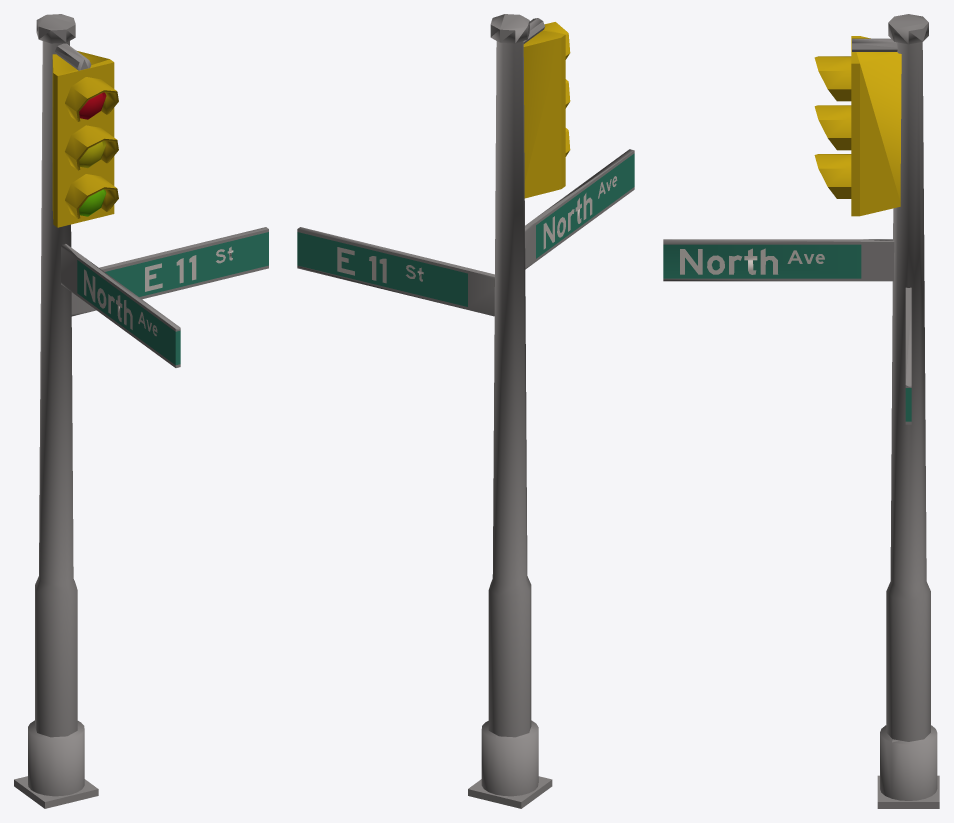
The model's file is traffic-light.glb.
The picture shows the model from 3 angles, left to right: view 1: azimuth 30°, elevation 25°; view 2: azimuth 150°, elevation 25°; view 3: azimuth 270°, elevation 25°; orthographic projection.
Parts seen in each view (by area): view 1: traffic-light; view 2: traffic-light; view 3: traffic-light.
Part boxes in pixels (x1,y1,x2,y2): traffic-light: [14, 14, 268, 808]; traffic-light: [297, 14, 634, 808]; traffic-light: [663, 14, 939, 808].
Bounding box in the file's own units: 0.9732 × 3 × 0.9722.
